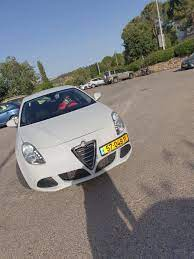licence: (100, 130, 130, 158)
